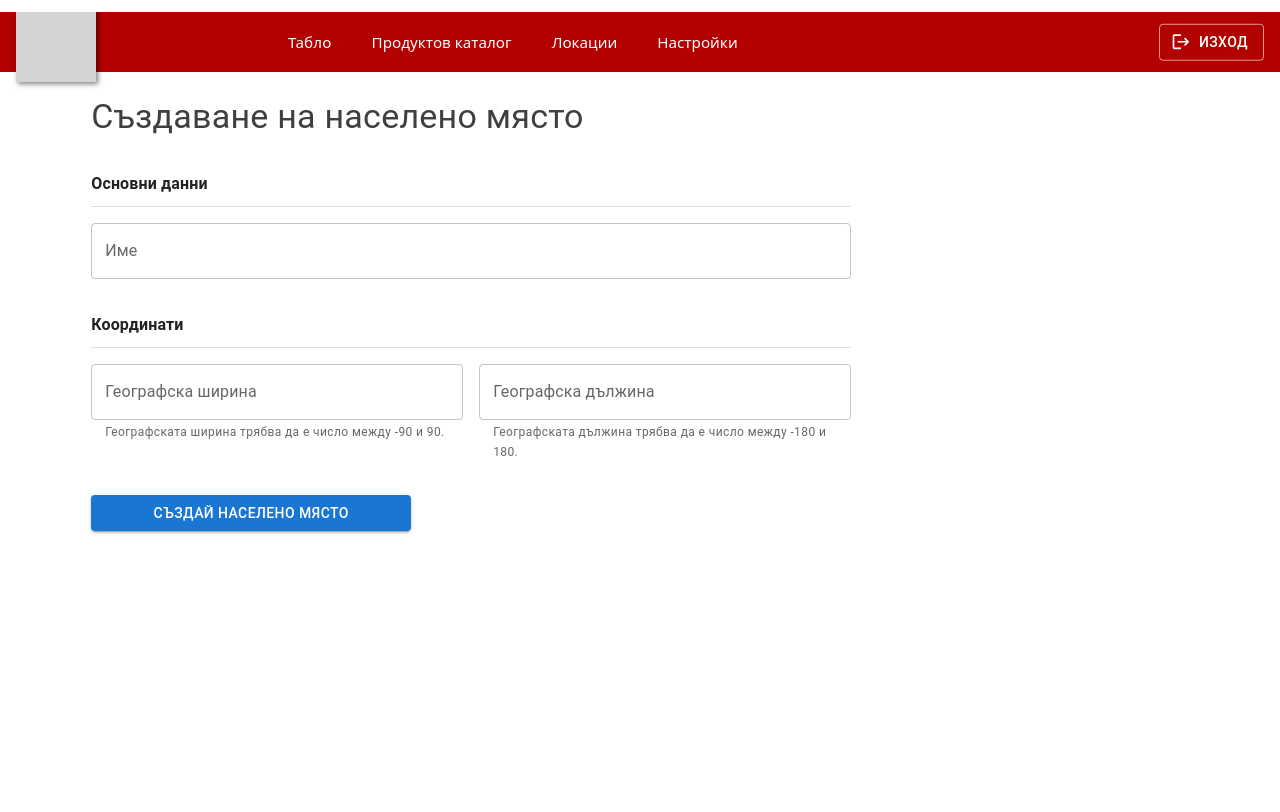
Test: Create settlement page › surfaces a duplicate-name error when the API responds with 409
Type "Банкя" into the field labelled "Име" at (471, 251), box [91, 223, 851, 279]
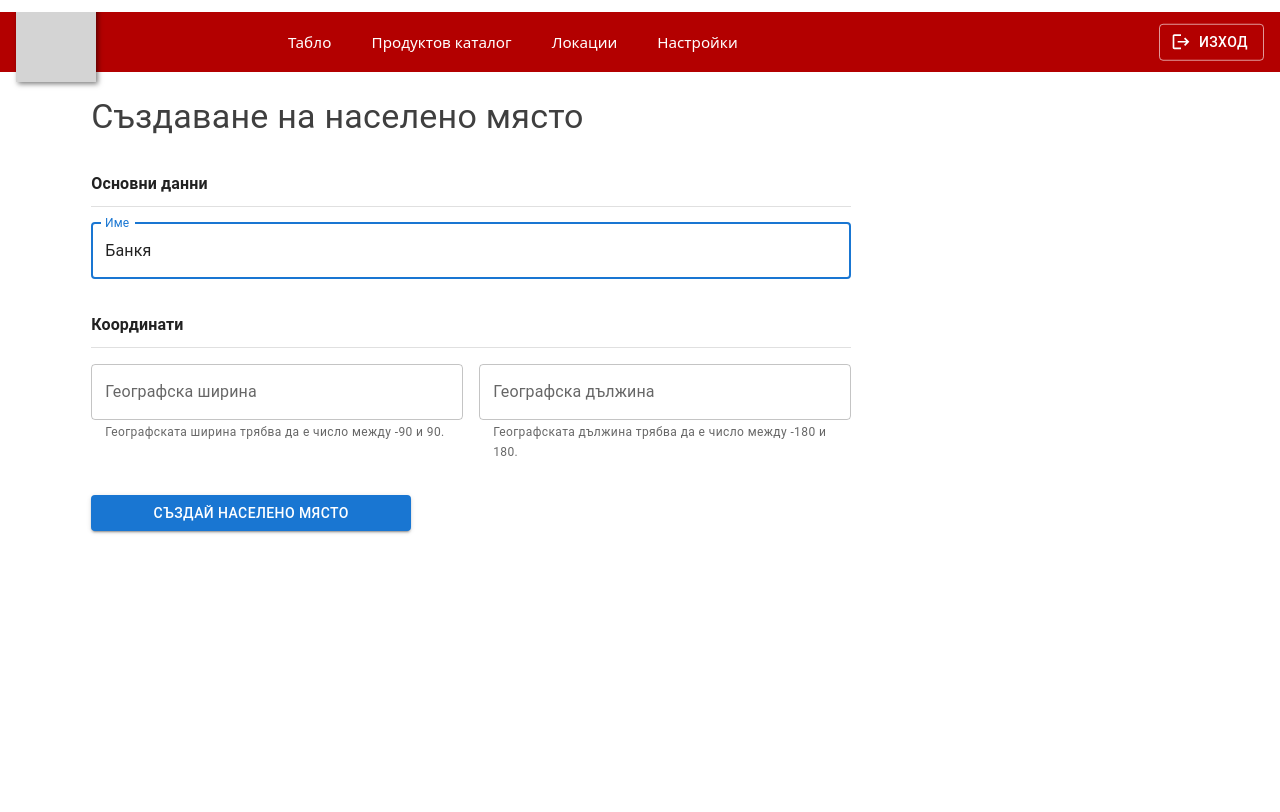
Type "42.7" into the number field labelled "Географска ширина" at (277, 392), box [91, 364, 463, 420]
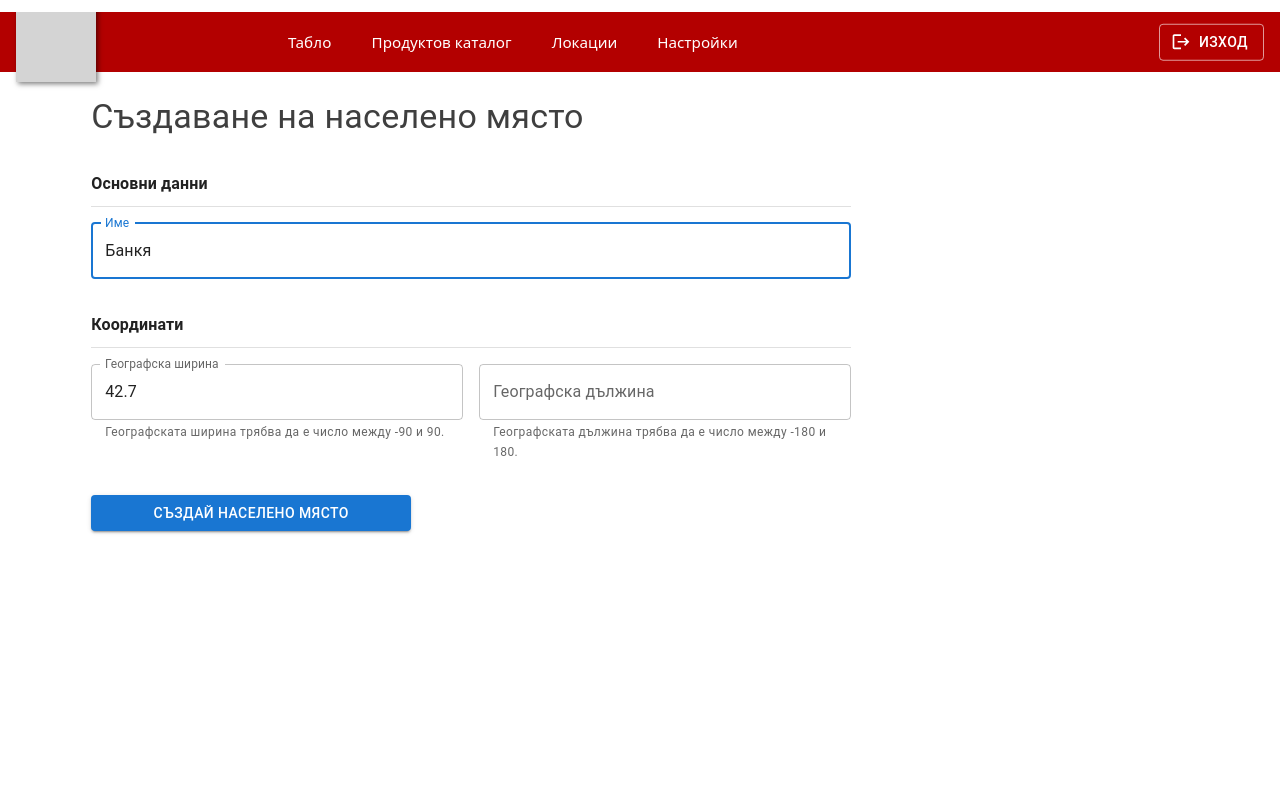
Type "23.15" into the number field labelled "Географска дължина" at (665, 392), box [479, 364, 851, 420]
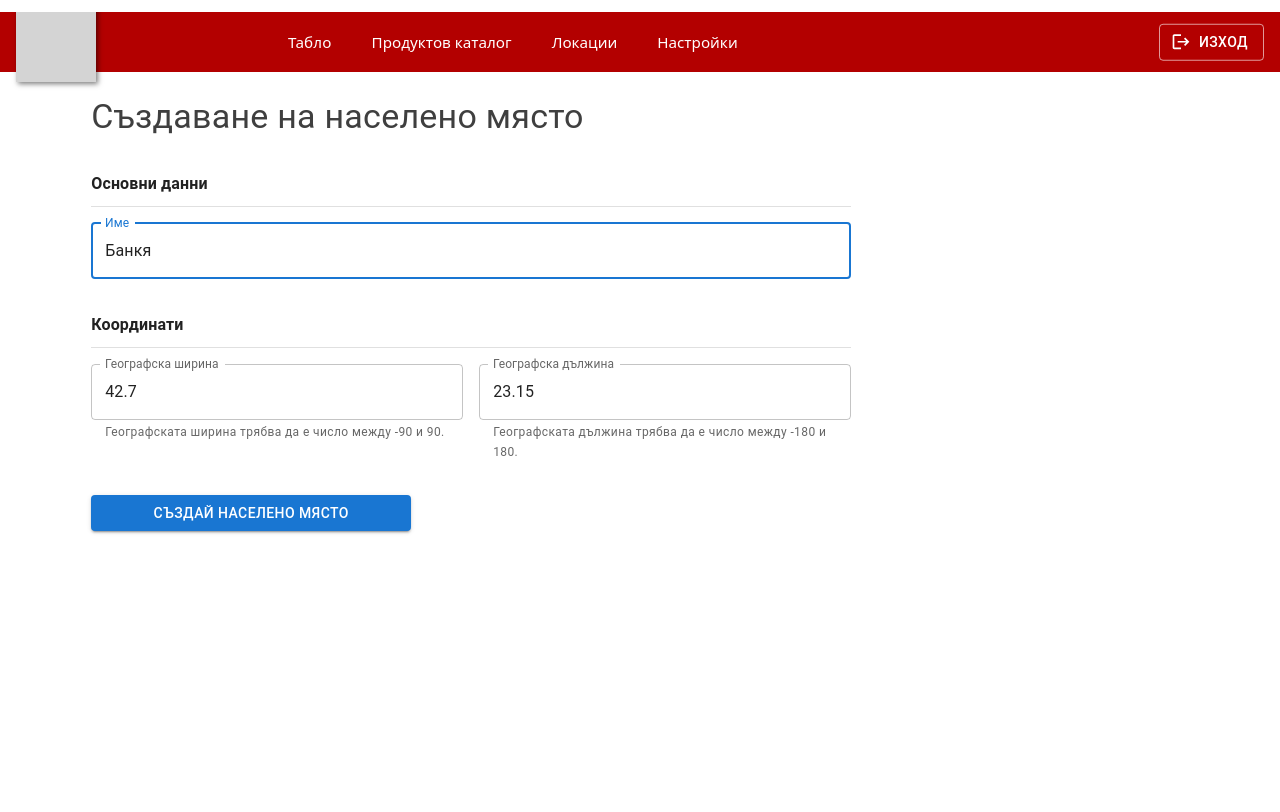
Click the button "Създай населено място" at (251, 513), box [91, 495, 411, 531]
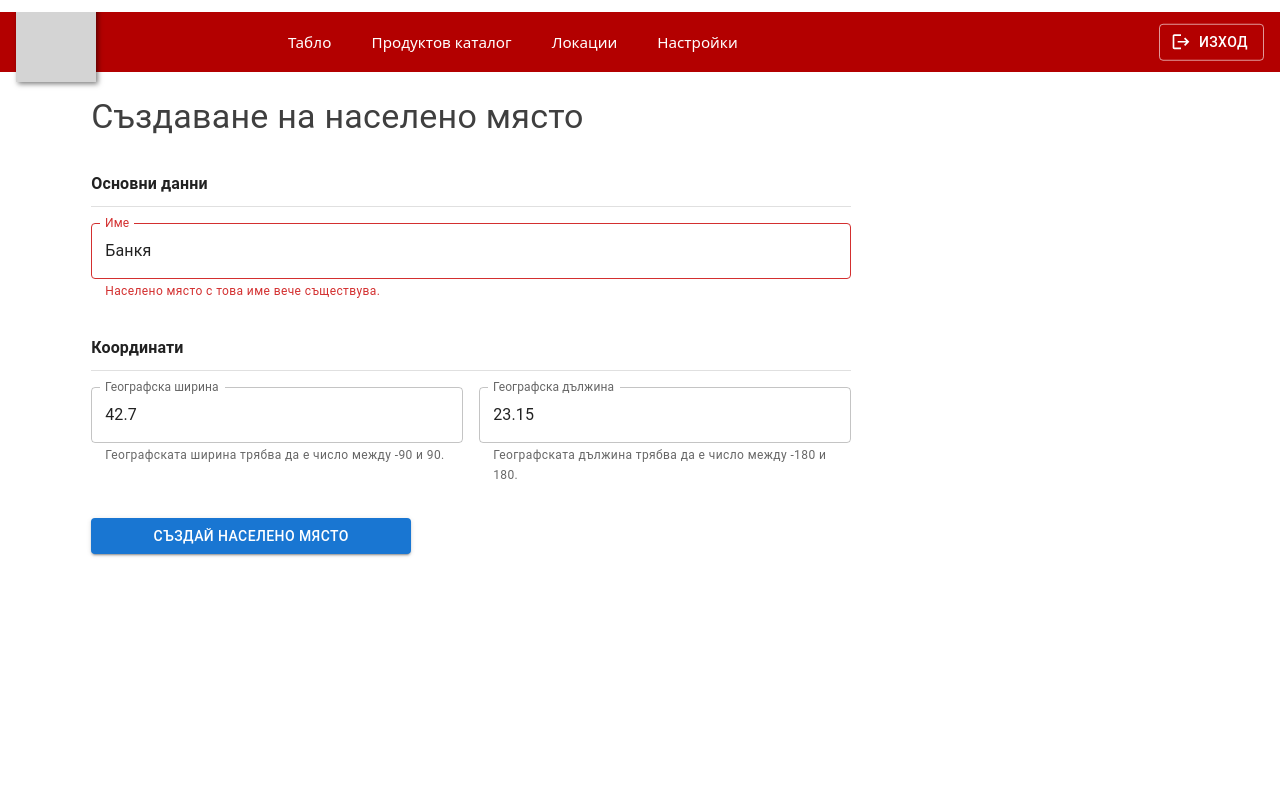
Check: the text "Населено място с това име вече съществува." is shown, box [105, 284, 380, 298]
